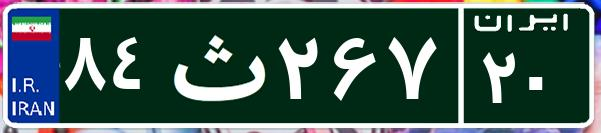0: (525, 38, 570, 115)
2: (273, 28, 330, 110), (475, 38, 525, 113)
4: (110, 28, 158, 105)
6: (330, 28, 385, 110)
7: (385, 28, 445, 110)
8: (57, 26, 110, 107)
ث: (158, 15, 273, 115)
